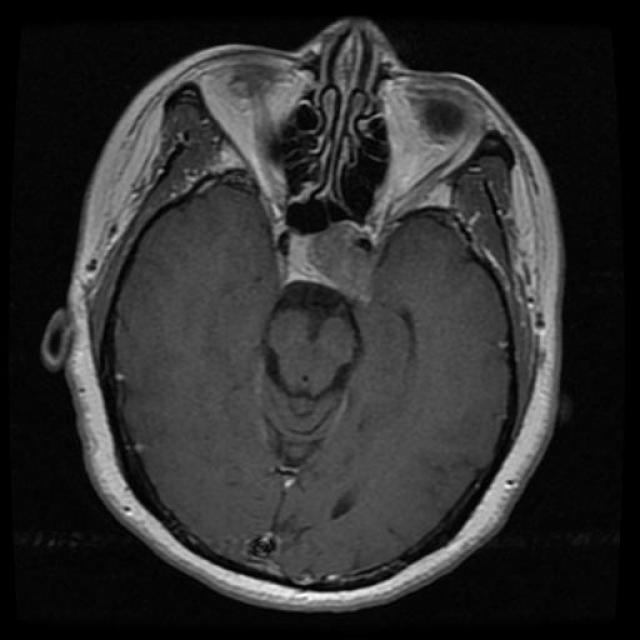pituitary: (302, 214, 399, 306)
